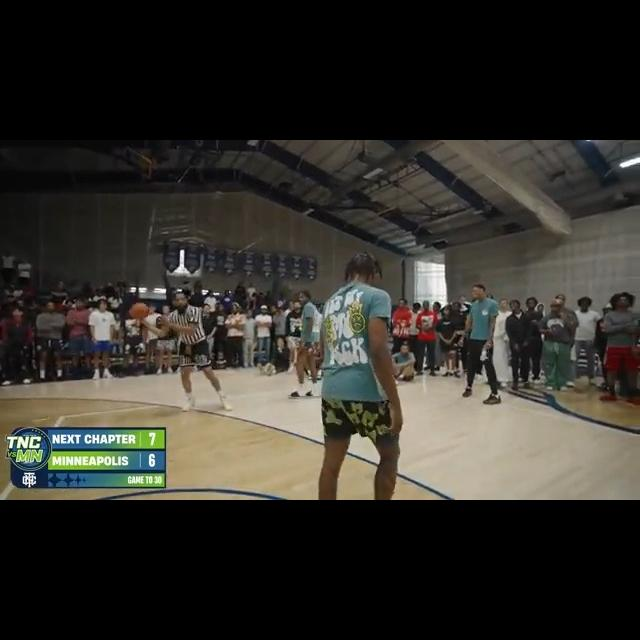basketball: (131, 303, 148, 320)
